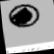correct: (4, 0, 52, 31)
